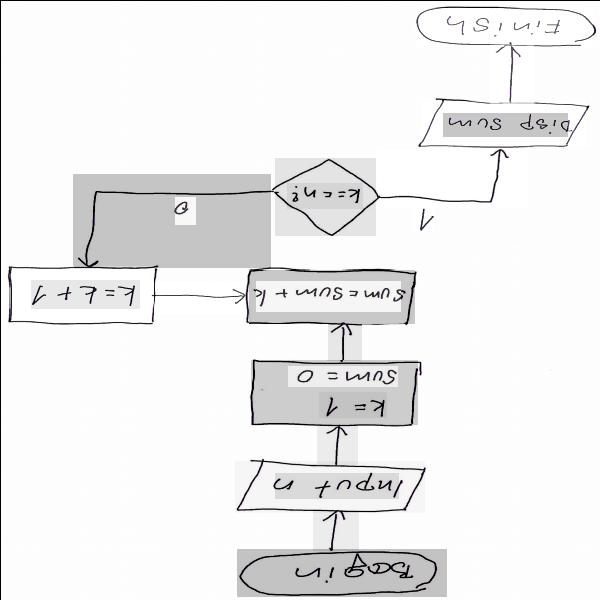arrow: (72, 173, 270, 267), (376, 148, 526, 207), (155, 281, 244, 313), (489, 43, 533, 104), (312, 509, 358, 550), (316, 424, 357, 464), (326, 323, 360, 360)
data: (234, 460, 424, 512), (420, 100, 586, 146)
decision: (274, 157, 375, 235)
process: (250, 359, 417, 424), (248, 268, 414, 322), (8, 265, 152, 323)
terminator: (236, 548, 445, 596), (414, 7, 592, 46)
text: (255, 280, 400, 311), (274, 472, 398, 498), (30, 279, 139, 308), (442, 112, 567, 136), (441, 14, 567, 37), (288, 560, 412, 581), (286, 365, 397, 386), (286, 182, 362, 208), (318, 390, 386, 416), (410, 203, 433, 231), (174, 196, 195, 224)
